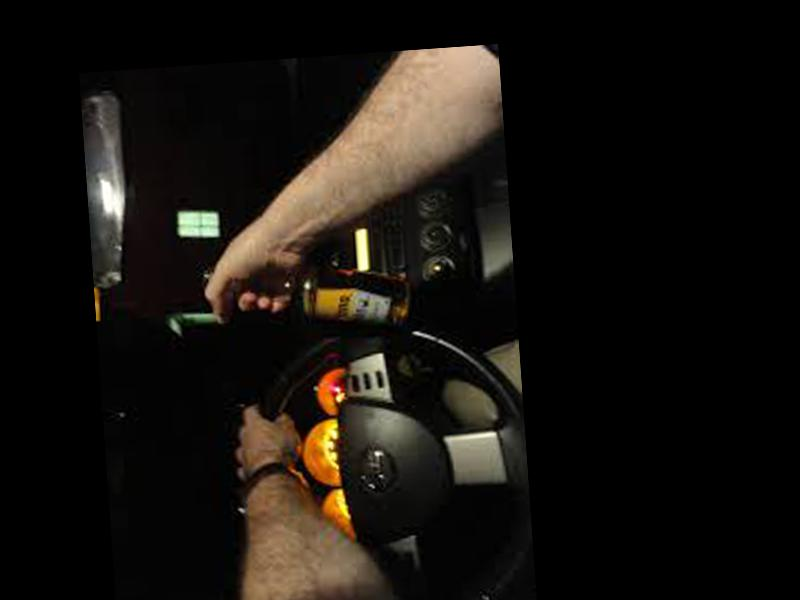Beer: (203, 251, 409, 345)
